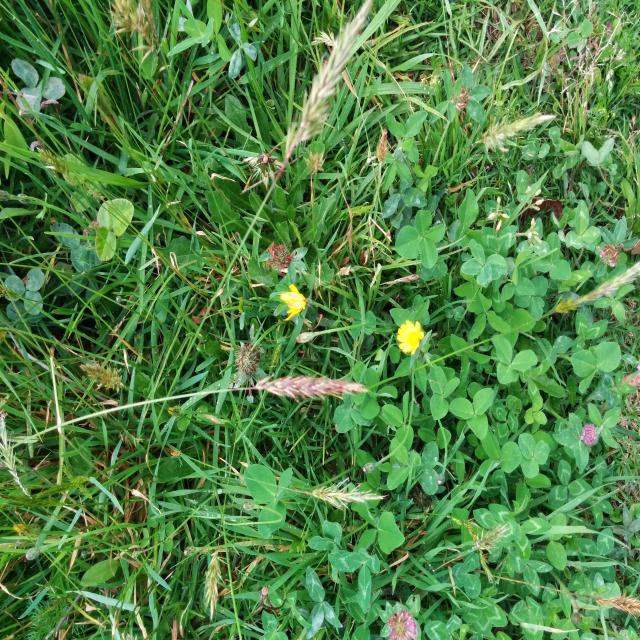Four Leaf Clover: (398, 210, 446, 269)
